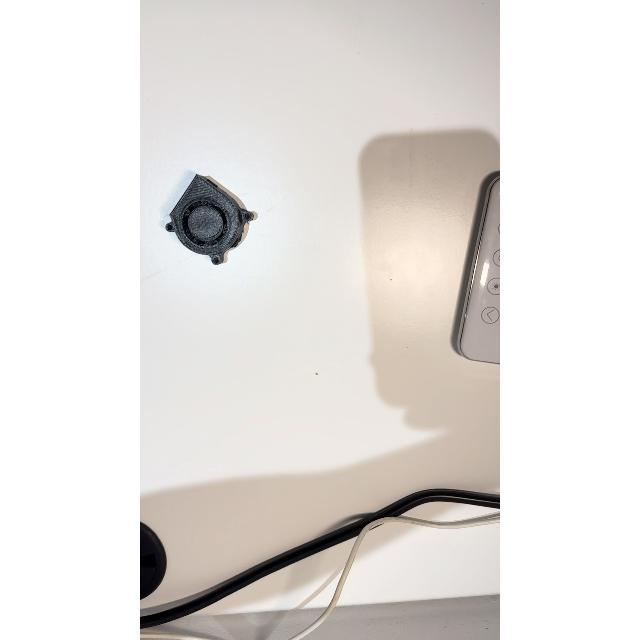Pieza3: (158, 170, 264, 270)
